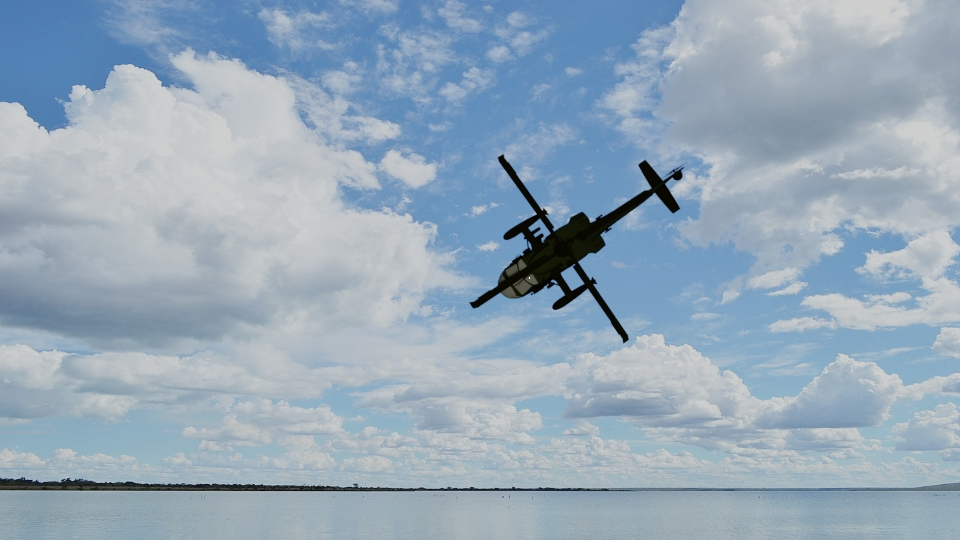heli: (470, 152, 689, 345)
